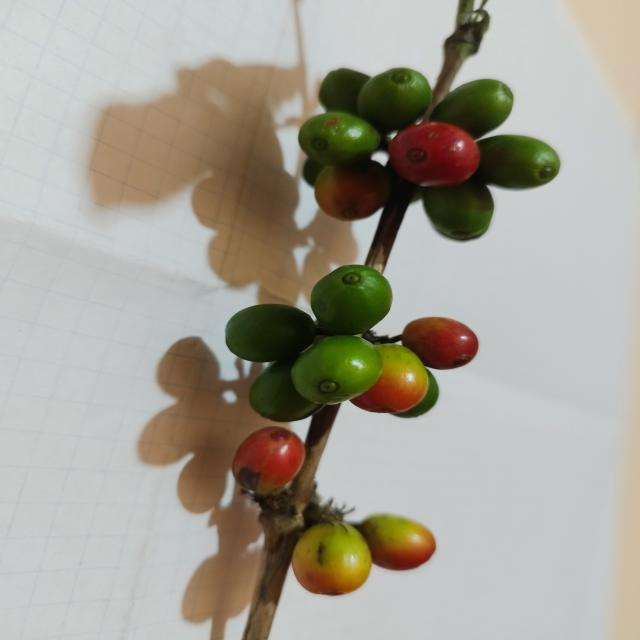Danado: (291, 521, 373, 596), (232, 427, 306, 500)
Infectado: (388, 123, 480, 188)
Sano: (291, 335, 383, 405), (224, 304, 318, 368), (311, 265, 393, 336), (471, 135, 561, 192), (398, 317, 480, 372), (358, 68, 432, 127), (299, 112, 381, 165), (432, 81, 512, 128)
